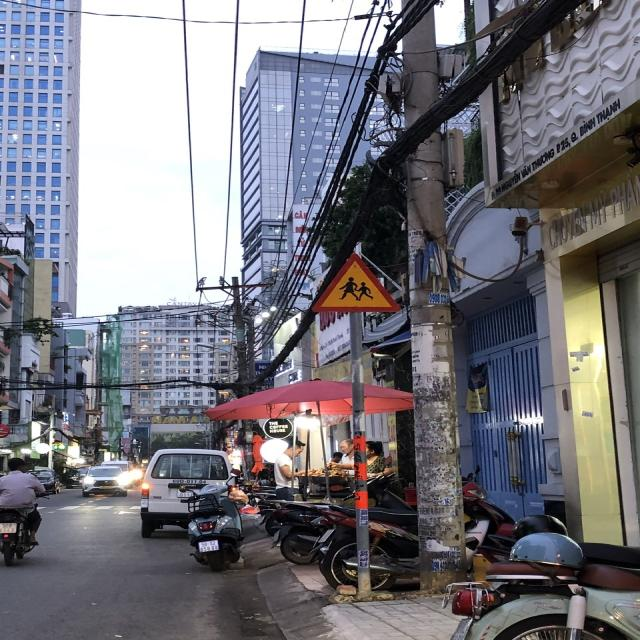Bien bao tre em: (304, 249, 404, 319)
